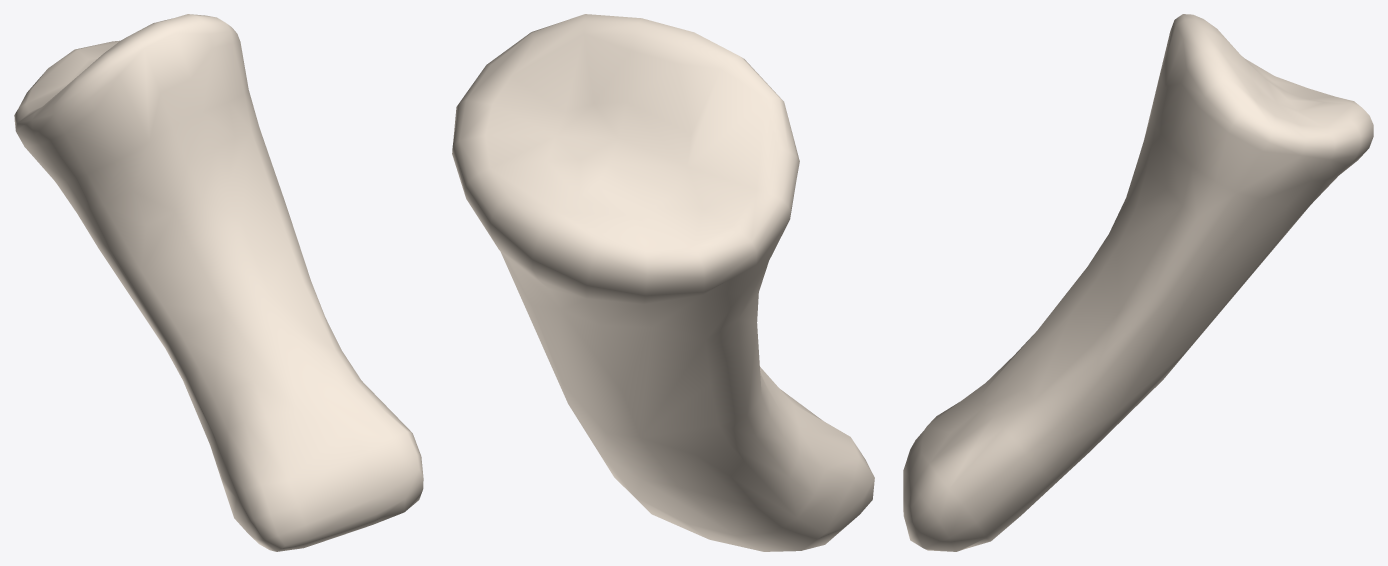
File: right_digit_5_middle.glb
The picture shows the model from 3 angles, left to right: view 1: azimuth 30°, elevation 25°; view 2: azimuth 150°, elevation 25°; view 3: azimuth 270°, elevation 25°; orthographic projection. The views are drawn at different scales.
Parts seen in each view (by area): view 1: Middle phalanx of 5th finger.r; view 2: Middle phalanx of 5th finger.r; view 3: Middle phalanx of 5th finger.r.
Part boxes in pixels (left/top/right/bottom): Middle phalanx of 5th finger.r: left=14, top=14, right=423, bottom=551; Middle phalanx of 5th finger.r: left=452, top=14, right=874, bottom=551; Middle phalanx of 5th finger.r: left=903, top=14, right=1373, bottom=551.
Bounding box in the file's own units: 0.0114 × 0.0193 × 0.0171.
